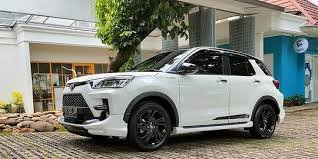mobil: (47, 36, 293, 158)
